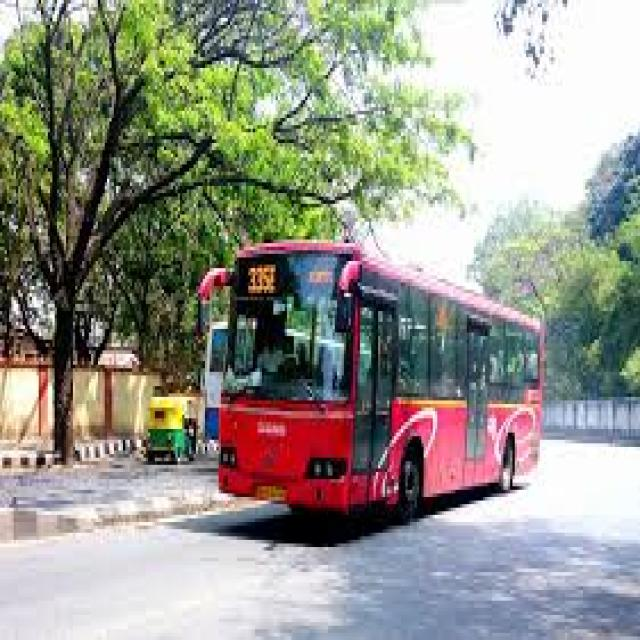bus: (200, 243, 542, 518)
three wheeler: (148, 397, 194, 461)
